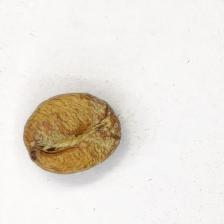NG: (32, 101, 112, 162)
